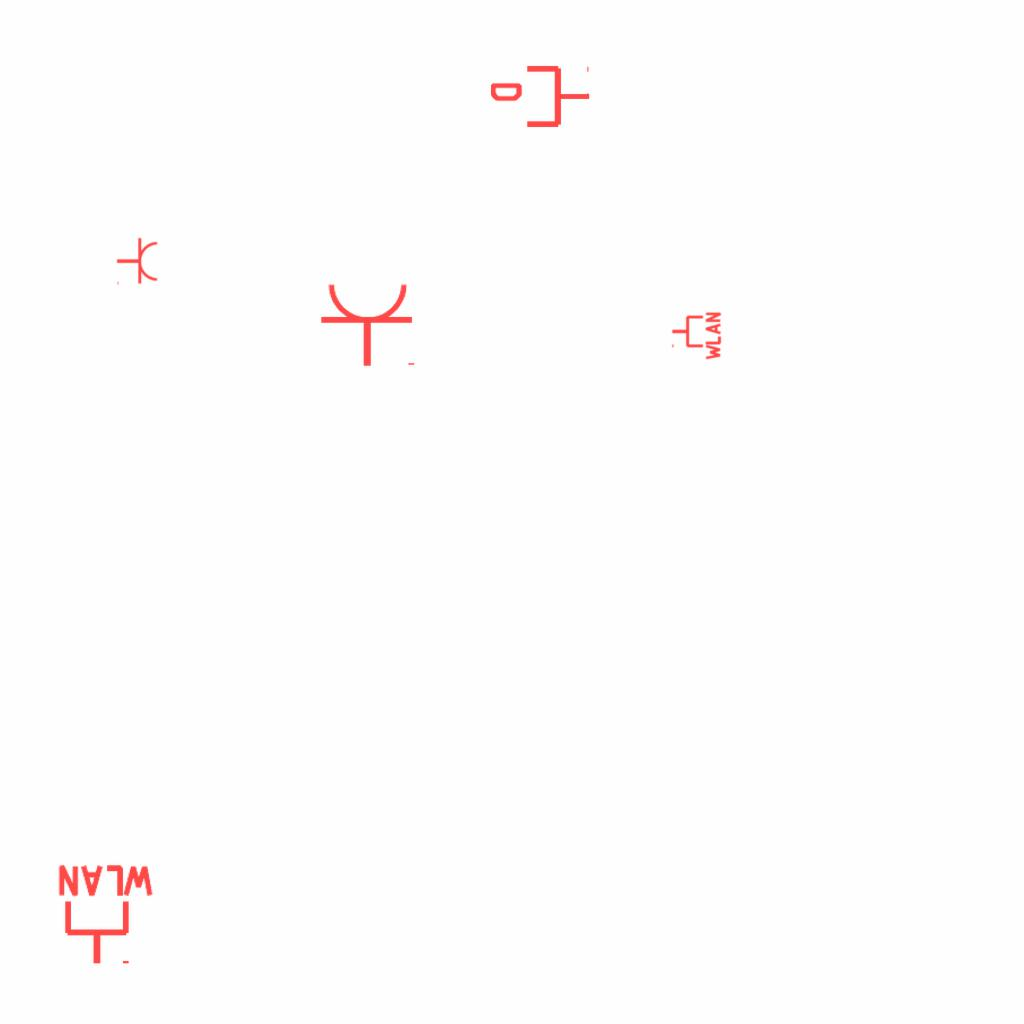Datenanschluss_einfach: (491, 62, 591, 131)
Schukosteckdose_einfach: (319, 281, 419, 368), (116, 237, 159, 287)
WLAN: (54, 863, 158, 968), (670, 310, 722, 362)
